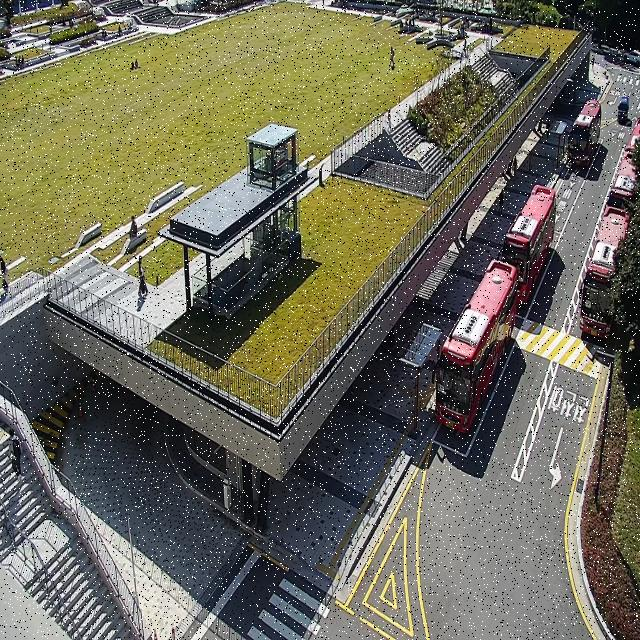queue: (412, 327, 442, 438)
